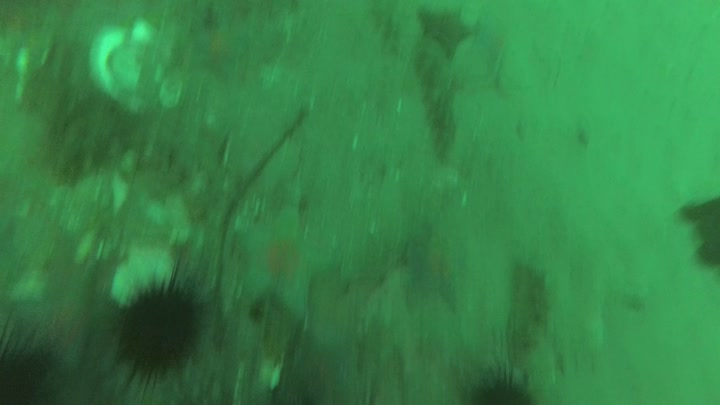echinus: (113, 247, 206, 401), (2, 312, 58, 405), (466, 358, 537, 405)
starfish: (231, 183, 336, 322), (276, 262, 377, 395), (402, 216, 472, 313), (191, 9, 256, 84), (415, 5, 478, 64)
